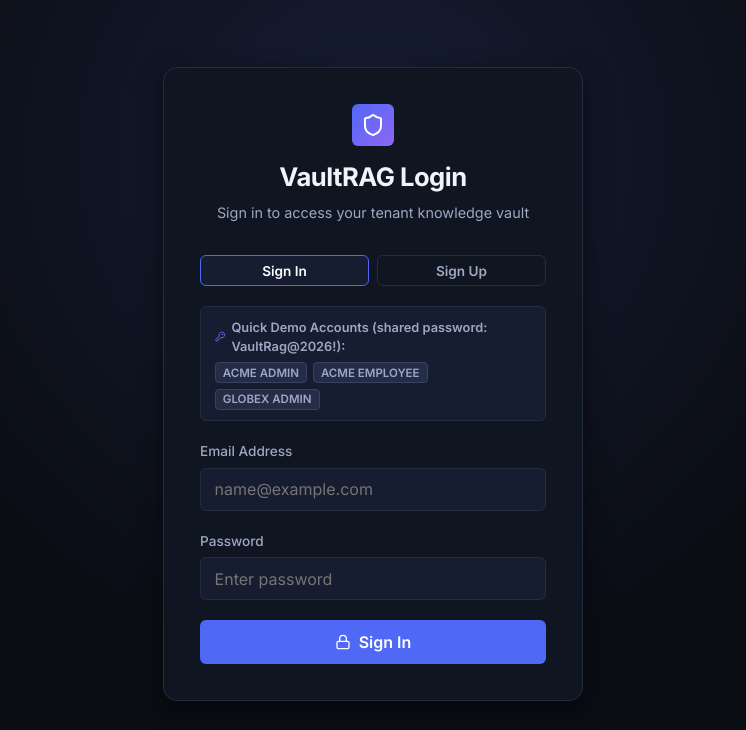
Scenario: LoginPage Form Validation › shows validation error when email format is invalid
The width and height of the screenshot is (746, 730).
Type "not-an-email" into the field with test id "input-email".
click(373, 489); type("not-an-email")  # box x1=200 y1=468 x2=546 y2=511
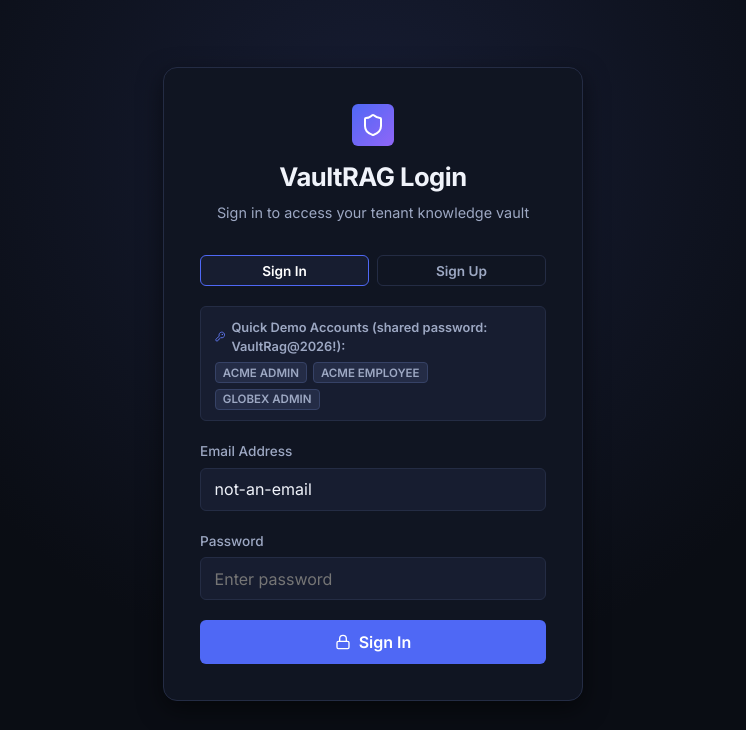
Type "validPassword123" into the password field with test id "input-password".
click(373, 579); type("validPassword123")  # box x1=200 y1=557 x2=546 y2=600
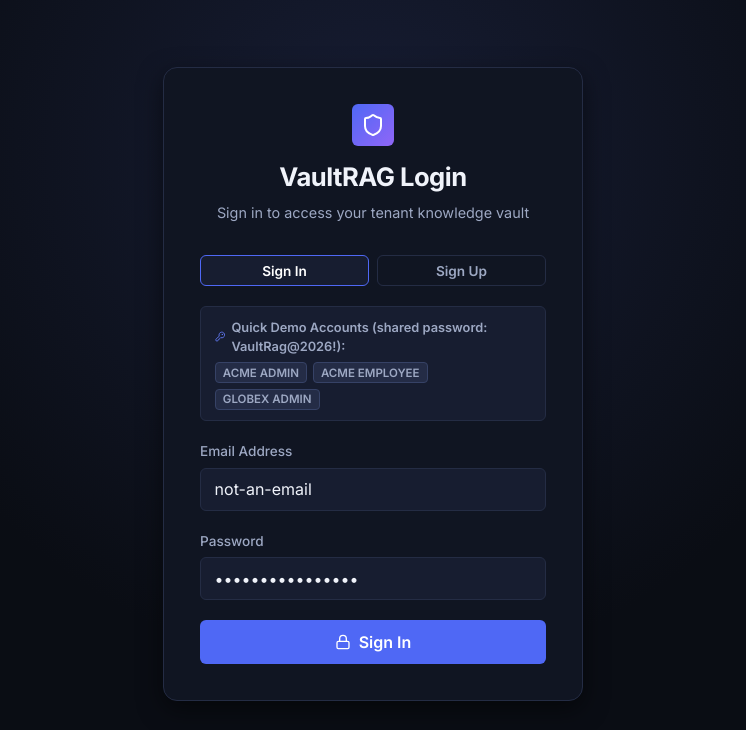
Click the button with test id "btn-login-submit".
click(373, 642)  # box x1=200 y1=620 x2=546 y2=664
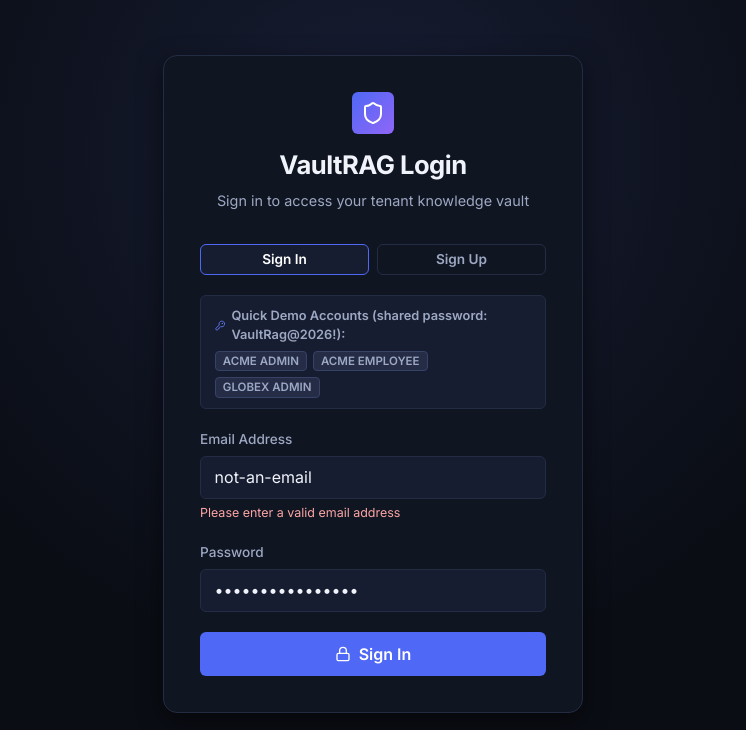
Now the text with test id "error-email" reads "Please enter a valid email address", box x1=200 y1=505 x2=400 y2=520
